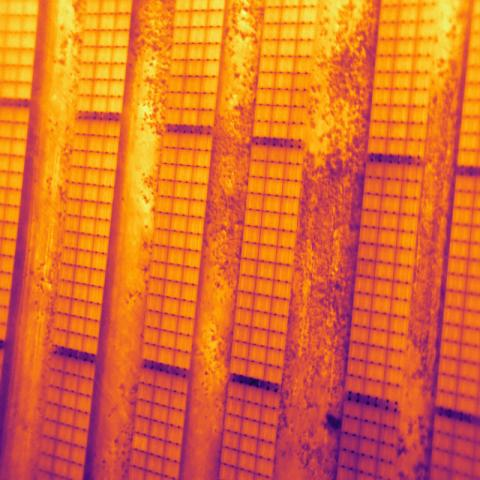fault: (131, 432, 150, 454)
